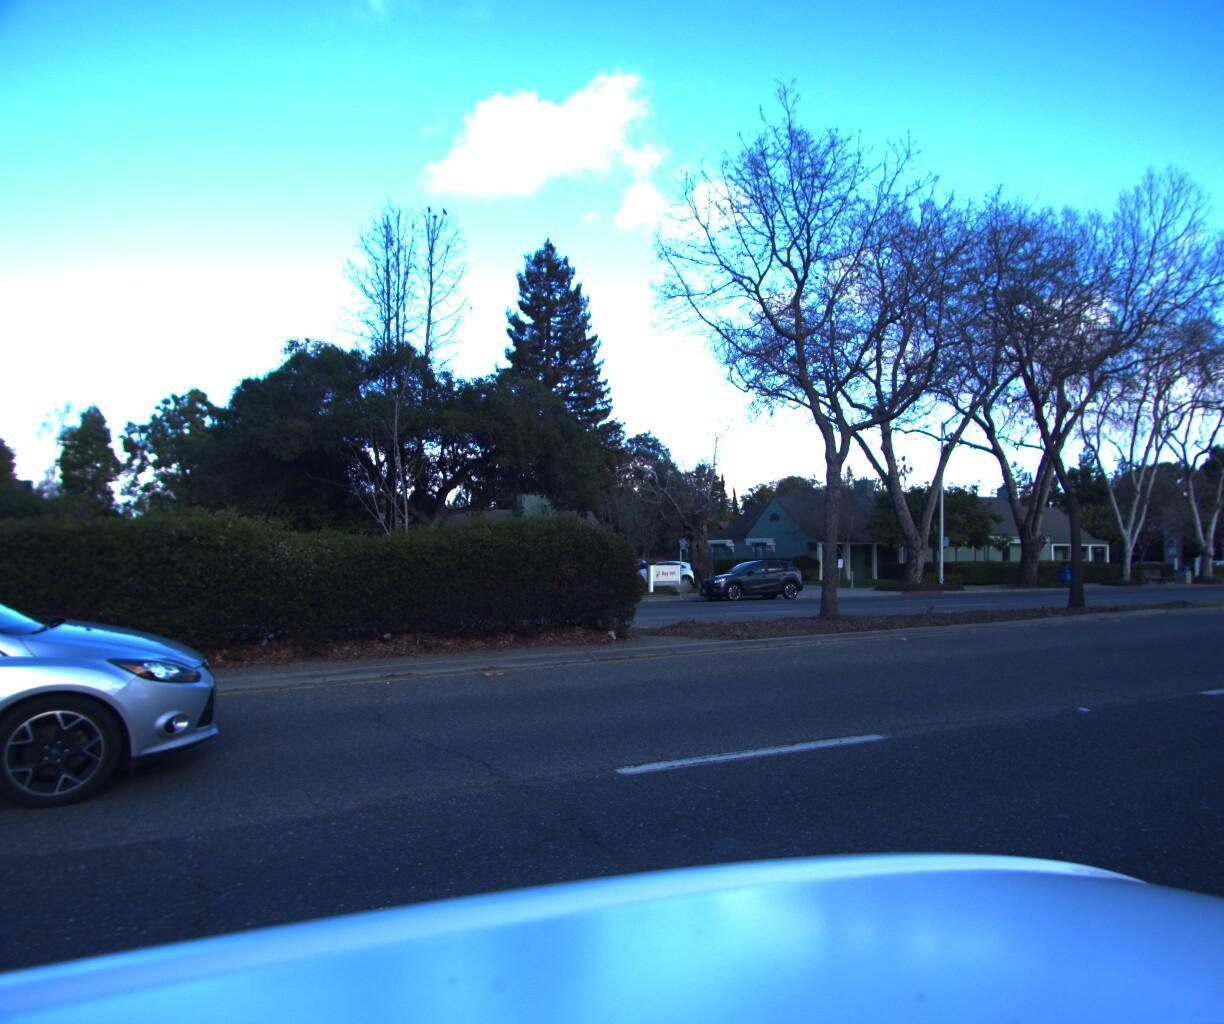car: (0, 541, 244, 949), (690, 554, 808, 600)
